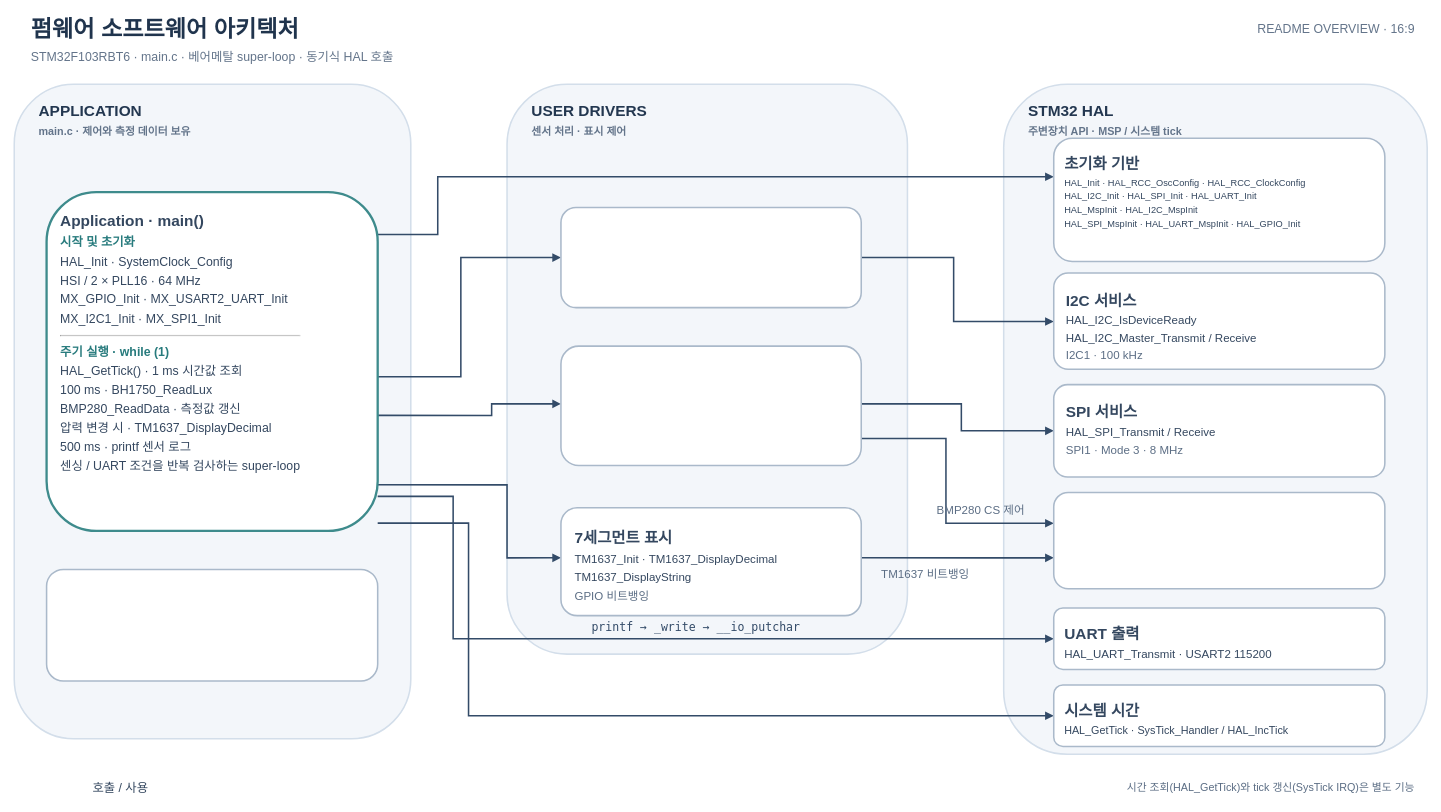
Image size: 1441x812. Some labels were removed from this diagram. Here are the shapes that lost their labels. From the top down, the box of each, then its label:
(560, 206, 862, 308): 조도 측정 BH1750_Init BH1750_ReadLux I2C 기반 센서 접근
(560, 345, 862, 466): 온도 · 기압 · 고도 BMP280_Init BMP280_ReadData 보정 및 파생값 계산 · SPI
(1053, 491, 1385, 589): GPIO 서비스 HAL_GPIO_WritePin / ReadPin CS 제어 · TM1637 CLK / DIO
(45, 568, 378, 681): 측정 데이터 illuminance · temperature pressure · altitude main.c 내부 저장값
